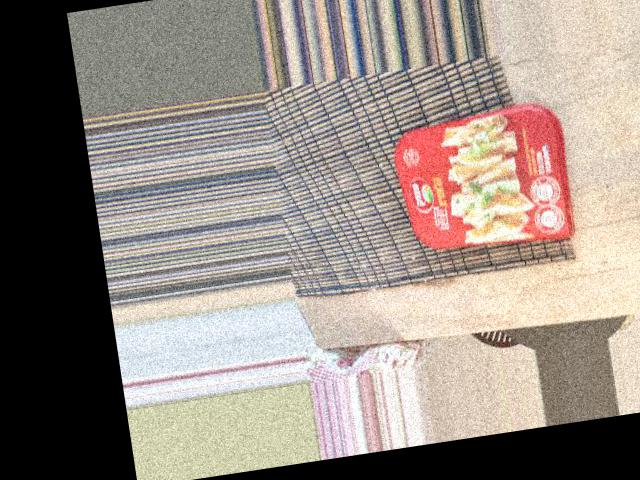cheese: (323, 57, 477, 256)
